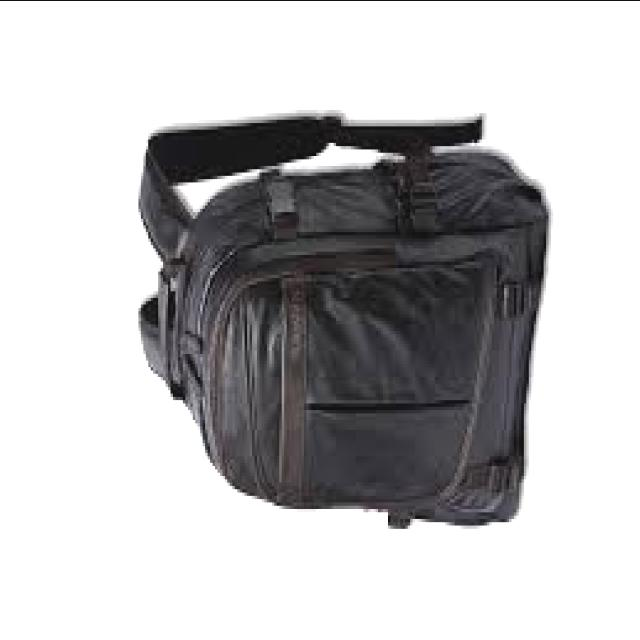backpack: (135, 113, 550, 532)
